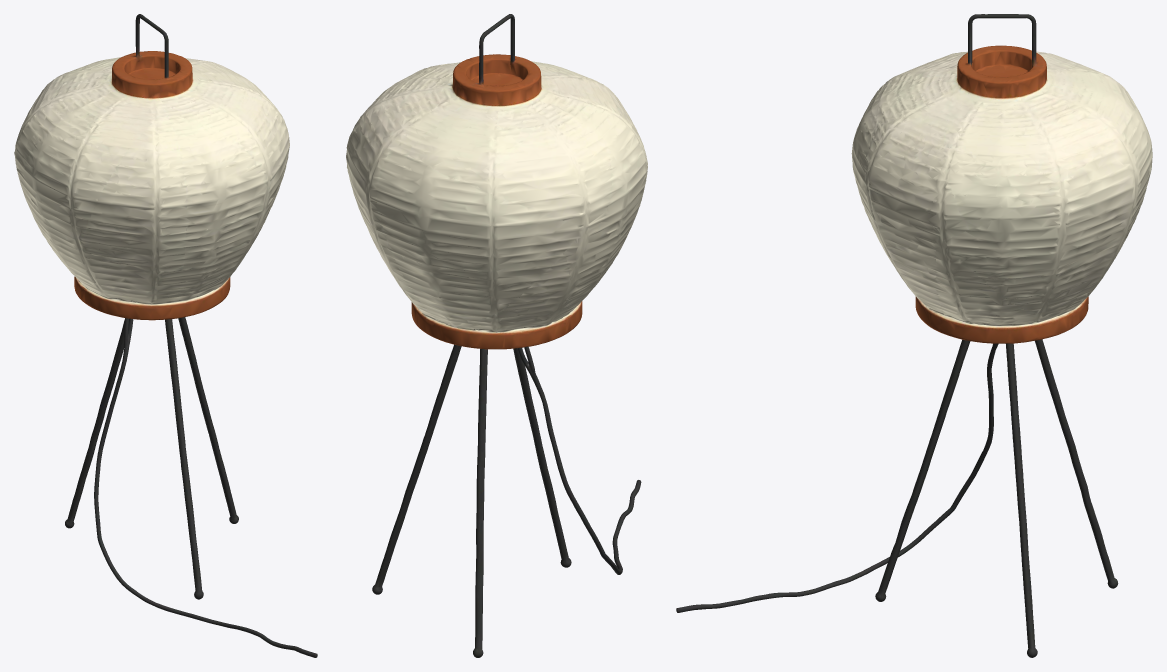
Rendered from ikigai-s.glb.
The picture shows the model from 3 angles, left to right: view 1: azimuth 30°, elevation 25°; view 2: azimuth 150°, elevation 25°; view 3: azimuth 270°, elevation 25°; orthographic projection. The views are drawn at different scales.
Visible parts, largest first — view 1: tripo_node_03c31f87-0b6e-4149-83c8-c13398c97c76; view 2: tripo_node_03c31f87-0b6e-4149-83c8-c13398c97c76; view 3: tripo_node_03c31f87-0b6e-4149-83c8-c13398c97c76.
Part boxes in pixels (x1,y1,x2,y2): tripo_node_03c31f87-0b6e-4149-83c8-c13398c97c76: (14,14,317,657); tripo_node_03c31f87-0b6e-4149-83c8-c13398c97c76: (346,14,647,657); tripo_node_03c31f87-0b6e-4149-83c8-c13398c97c76: (676,14,1152,657).
Size of the model in its own units: 0.3425 by 0.74 by 0.5399.
1 material, 1 textured.
